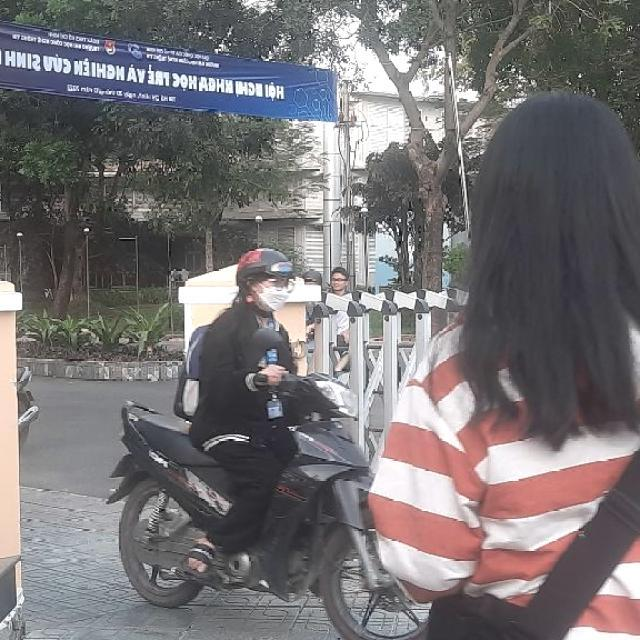Helmet: (235, 244, 292, 312)
